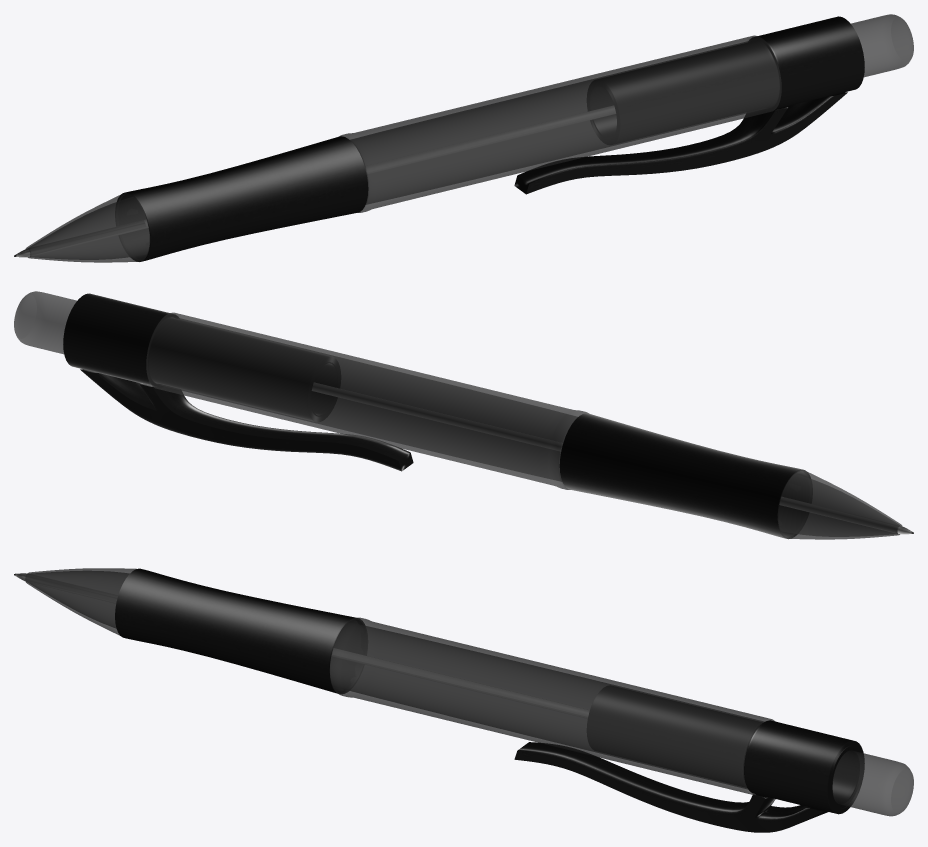
The model's file is 10302_Pen_v2_L3.obj.
The picture shows the model from 3 angles, top to bottom: view 1: azimuth 30°, elevation 25°; view 2: azimuth 150°, elevation 25°; view 3: azimuth 330°, elevation 25°; orthographic projection.
Visible parts, largest first — view 1: 10302_Pen_1, 10302_Pen_2; view 2: 10302_Pen_1, 10302_Pen_2; view 3: 10302_Pen_1, 10302_Pen_2.
Part boxes in pixels (bbox=[...]): 10302_Pen_1: bbox=[14, 16, 864, 261]; 10302_Pen_2: bbox=[25, 14, 913, 262]; 10302_Pen_1: bbox=[63, 293, 913, 539]; 10302_Pen_2: bbox=[14, 291, 902, 539]; 10302_Pen_1: bbox=[14, 568, 864, 832]; 10302_Pen_2: bbox=[25, 568, 913, 816].
Size of the model in its own units: 10.08 by 1.2 by 0.7948.
Materials: 2 (1 with a texture image).
